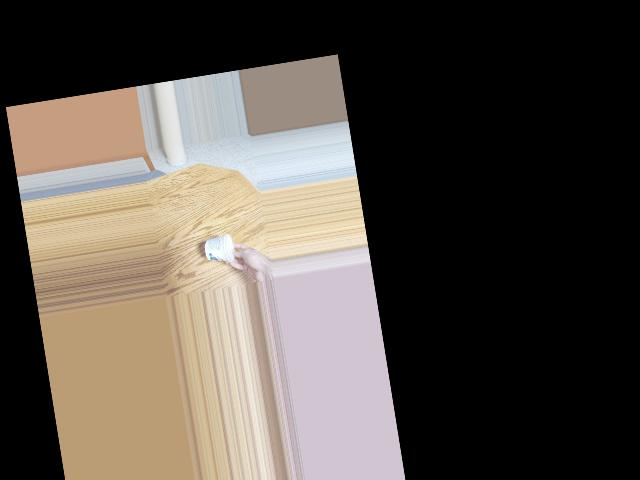cotage: (207, 229, 240, 262)
